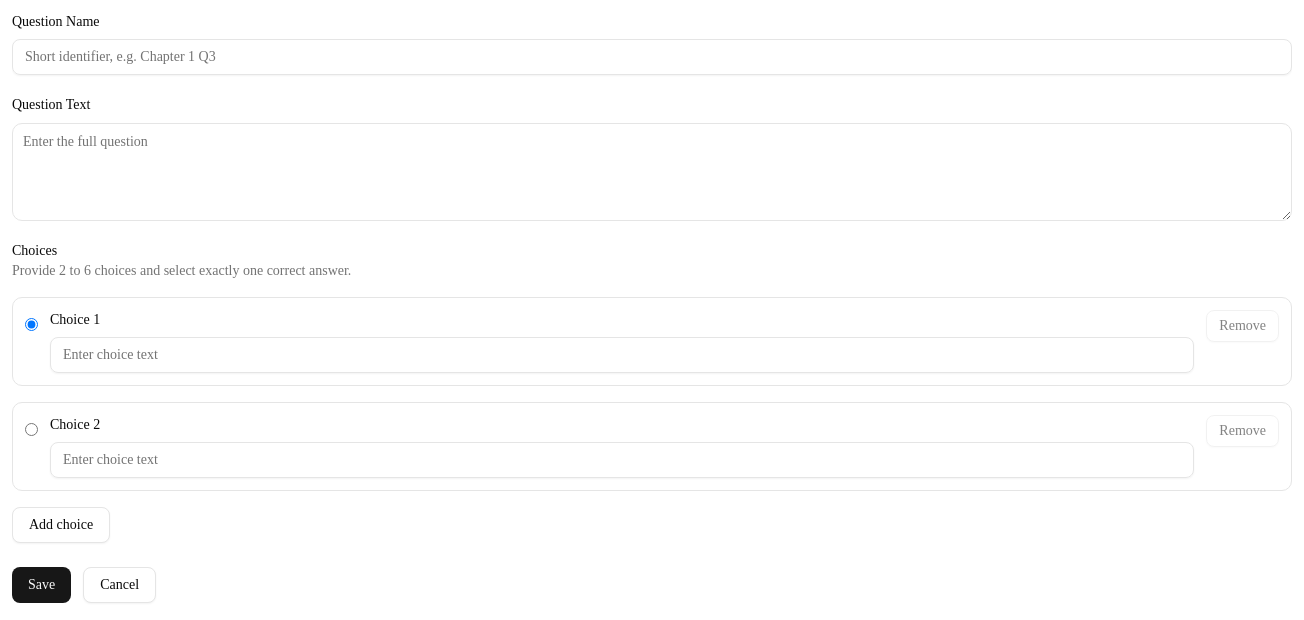
Test: Phase 3: MCQ form › allows only one correct radio selection
This screenshot has width=1304, height=620.
Expected: the radio button named "Mark choice 1 as correct" is checked, [25,318,38,331]
Click the radio button named "Mark choice 2 as correct": (32,430) [25,423,38,436]
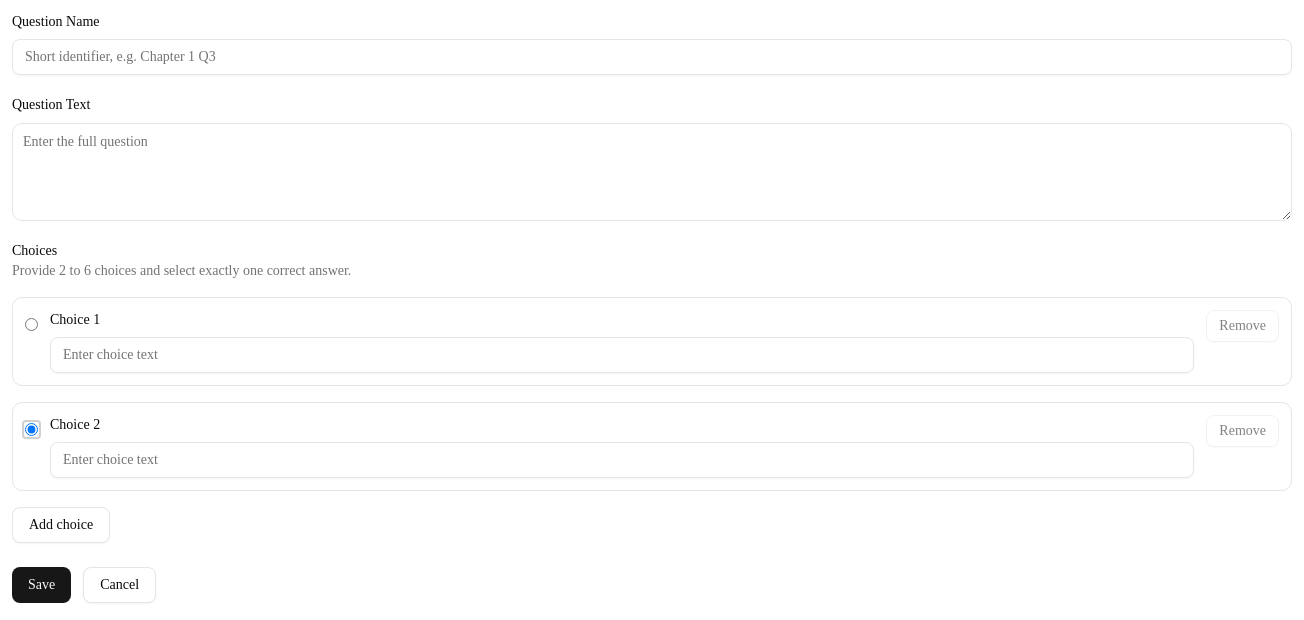
Result: the radio button named "Mark choice 2 as correct" is checked at [25,423,38,436]
Result: the radio button named "Mark choice 1 as correct" is not checked at [25,318,38,331]
